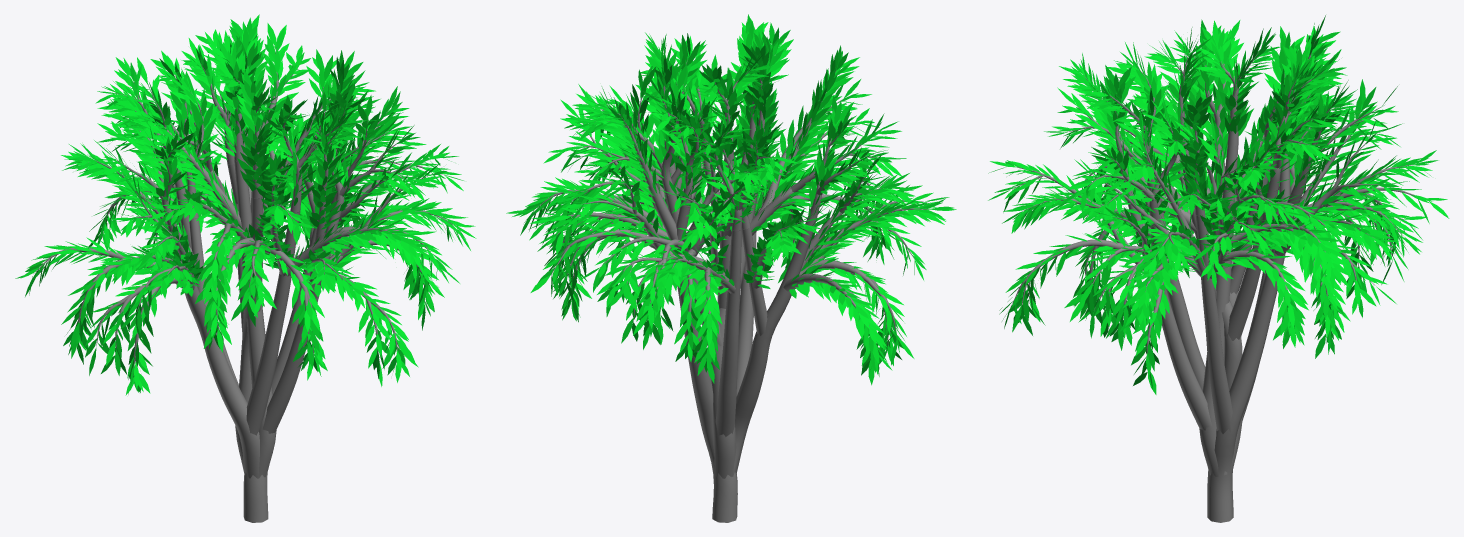
The model's file is arbol2.fbx.
3 renders of one model, left to right at view 1: azimuth 30°, elevation 25°; view 2: azimuth 150°, elevation 25°; view 3: azimuth 270°, elevation 25°, orthographic. The views are drawn at different scales.
Parts seen in each view (by area): view 1: leaves, tree; view 2: leaves, tree; view 3: leaves, tree.
Part boxes in pixels (x1=…): leaves: x1=15, y1=14, x2=476, y2=395; tree: x1=34, y1=47, x2=453, y2=522; leaves: x1=506, y1=14, x2=956, y2=385; tree: x1=538, y1=60, x2=929, y2=522; leaves: x1=988, y1=15, x2=1449, y2=394; tree: x1=1011, y1=41, x2=1429, y2=522.
Bounding box in the file's own units: 590 × 699 × 608.
